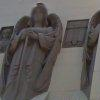Statue: (5, 4, 66, 100)
